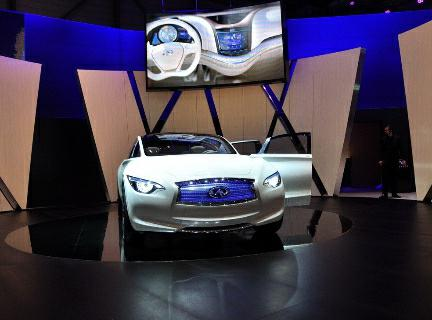英菲尼迪-Etherea: (110, 130, 286, 247)
